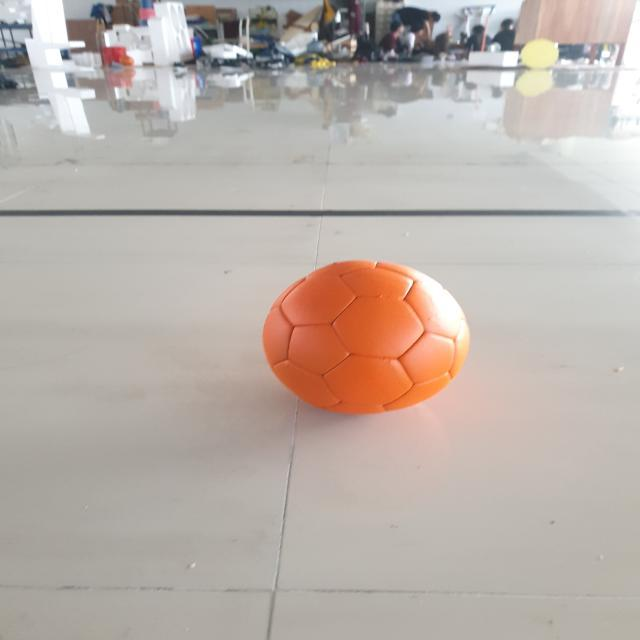bola: (234, 236, 494, 429)
